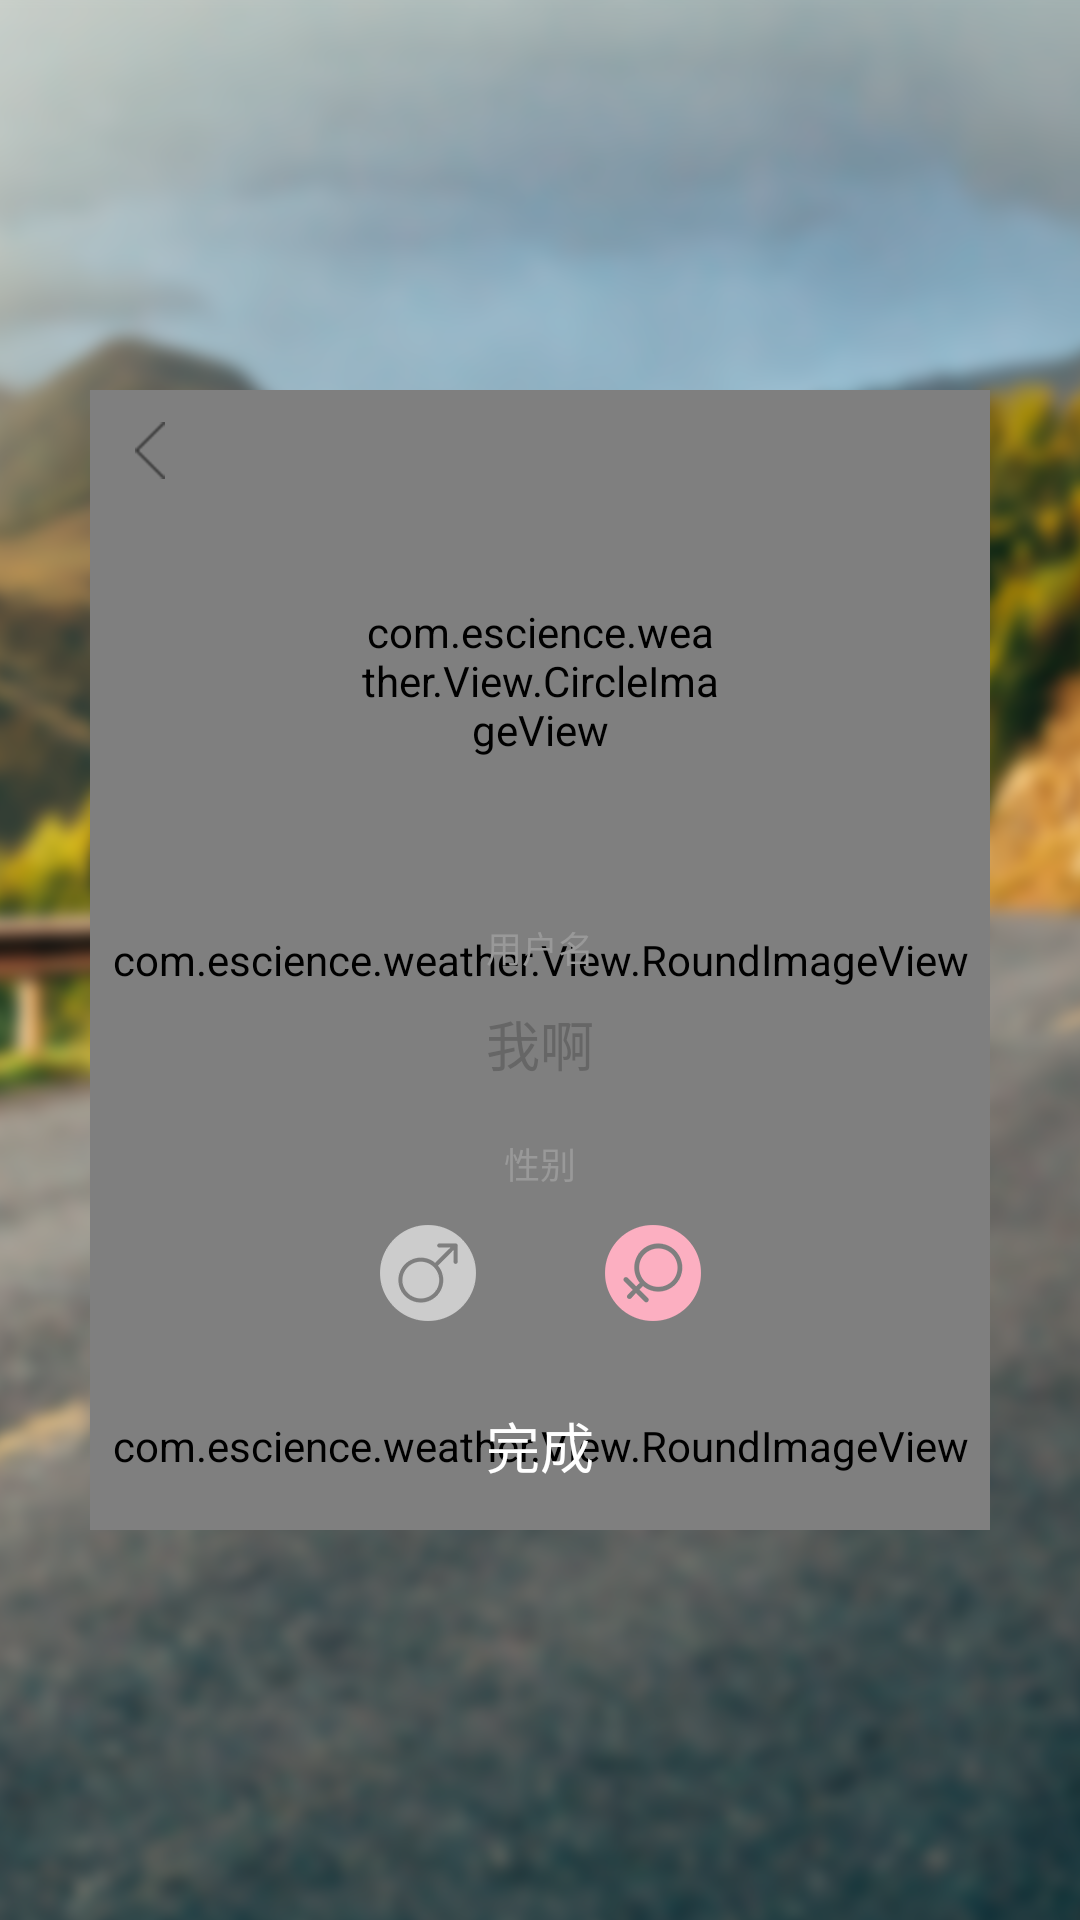

Icons on this 1080px×1920px Android screen, each with its box as (x1, y1, x2, y2):
back: (135, 422, 165, 479)
boy: (380, 1225, 476, 1321)
girl click: (605, 1225, 701, 1321)
